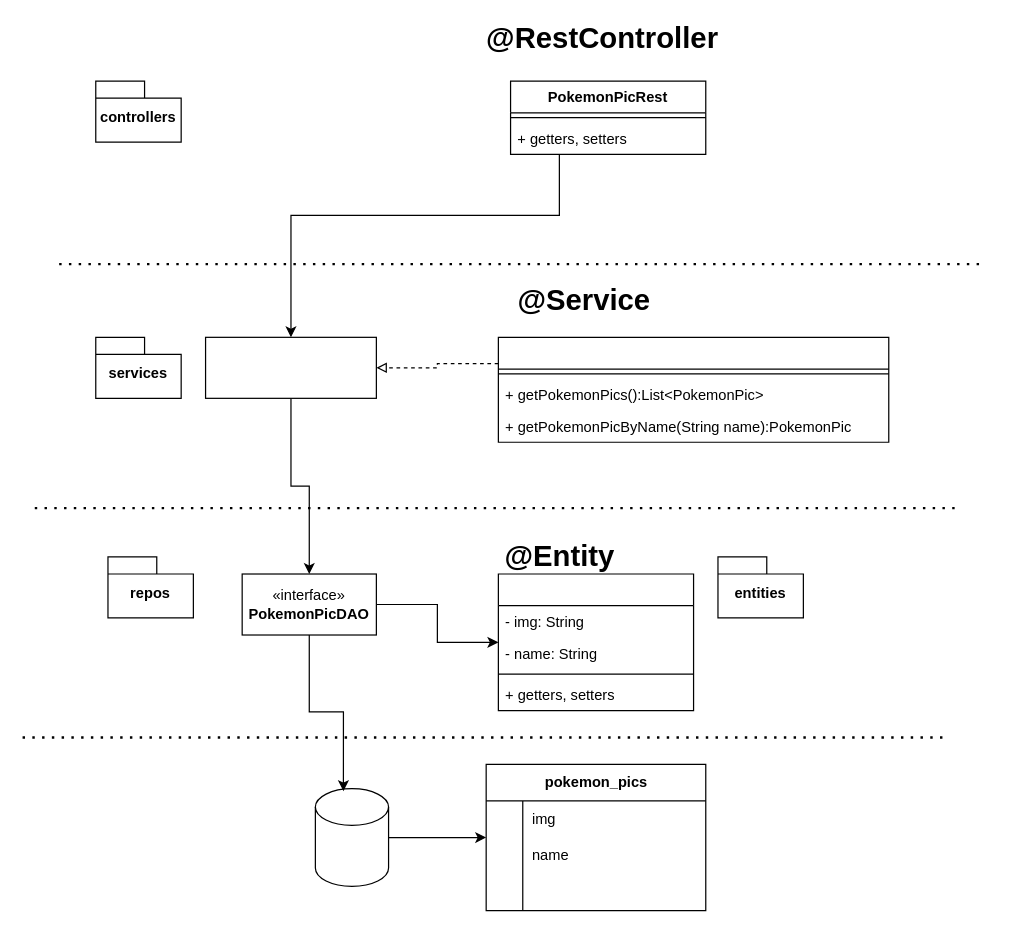
The diagram is 1009 pixels wide and 932 high, and some of its shapes have lost their labels. The shapes that lost their labels are listed below. From the top down, each one's box as (x1, y1, x2, y2) in pixels, then its label:
(204, 336, 376, 398): «interface» PokemonPicService
(497, 336, 889, 442): PokemonPicServiceImpl
(497, 573, 694, 711): PokemonPic
